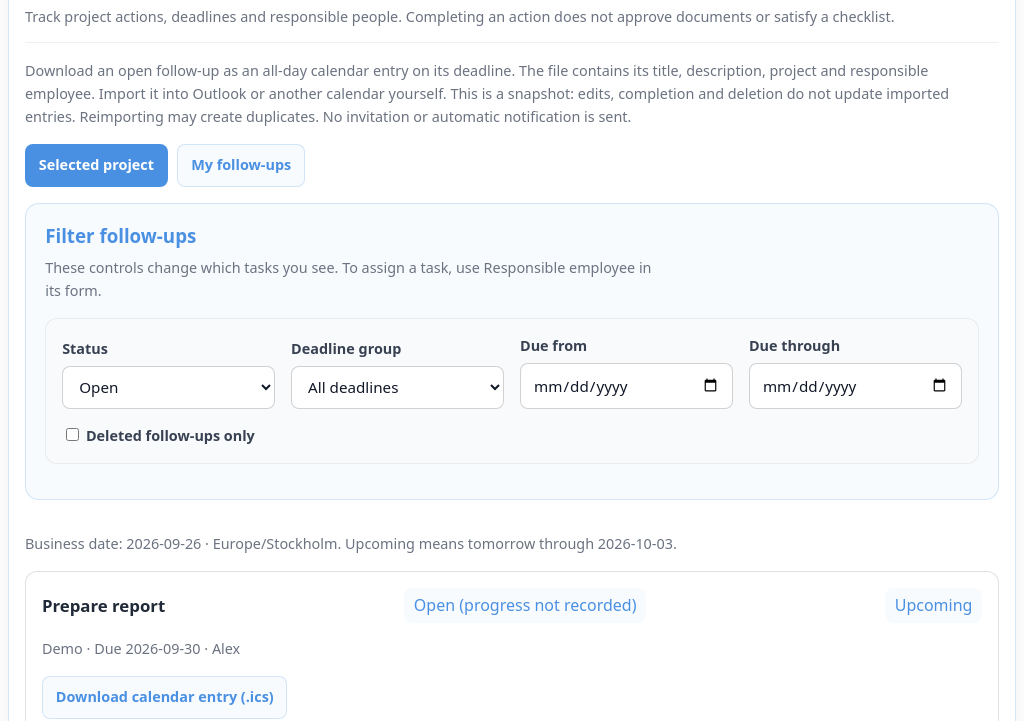
Test: reports local download failure without mutation or retry
Step 1. Click the button "Download calendar entry (.ics)" → coordinates (165, 697), box [42,676,288,719]
(page scrolled)
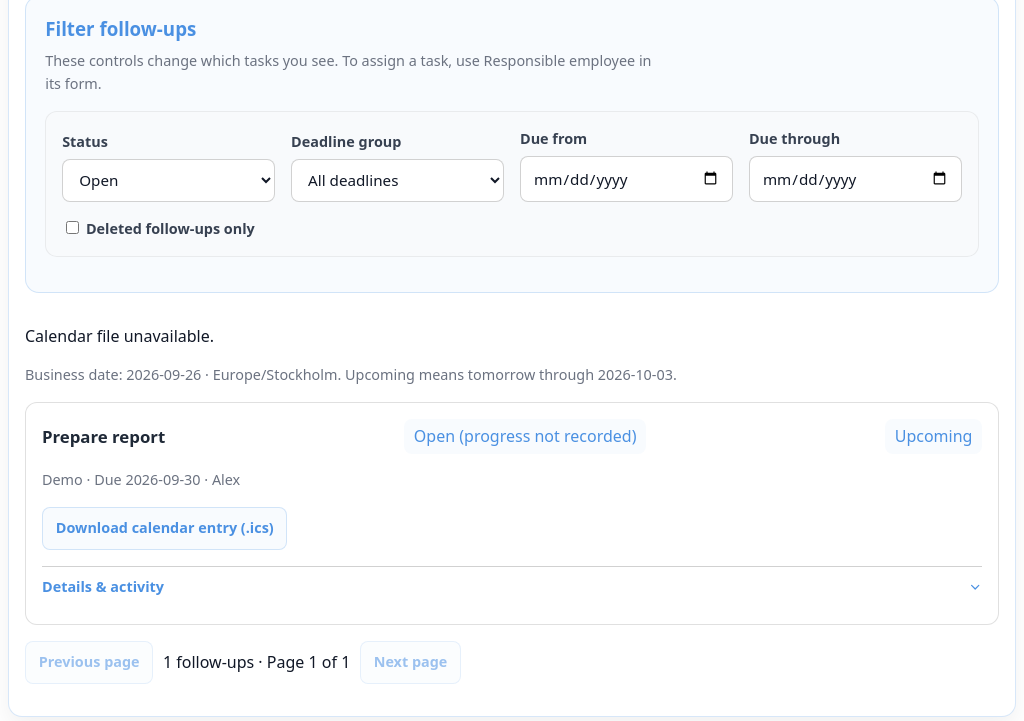
Expected: the heading "Prepare report" is shown, [42,424,165,449]
Expected: the message reads "Calendar file unavailable.", [25,325,214,347]
Step 2. Click the button "Download calendar entry (.ics)" → coordinates (165, 528), box [42,507,288,550]
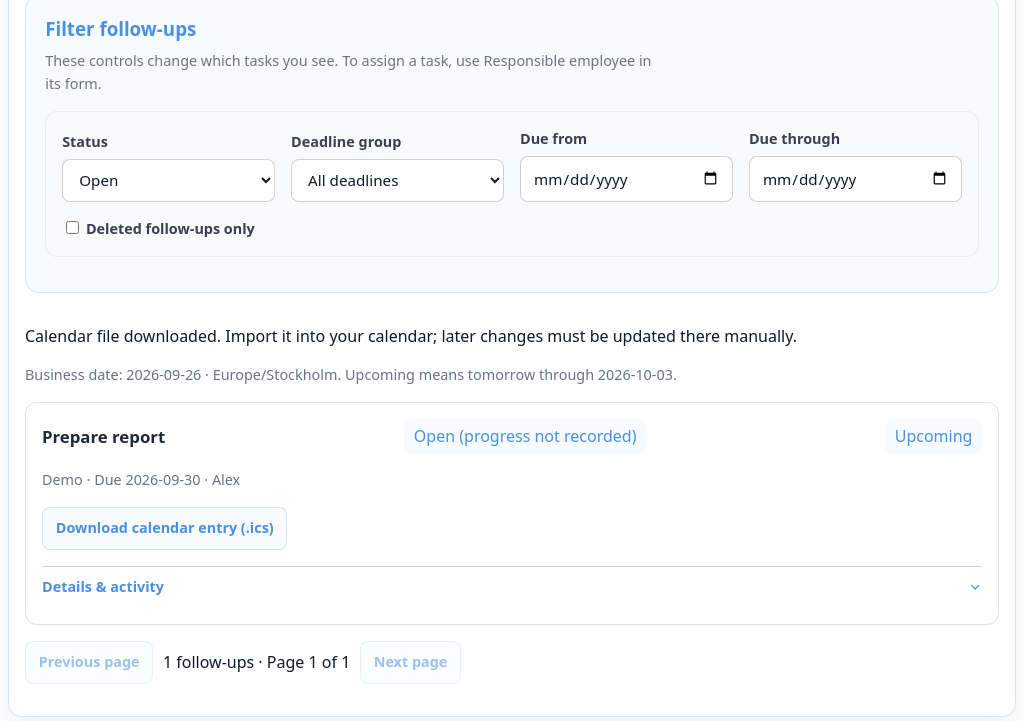
Expected: the text "Calendar file downloaded" is shown, [25,325,797,347]
